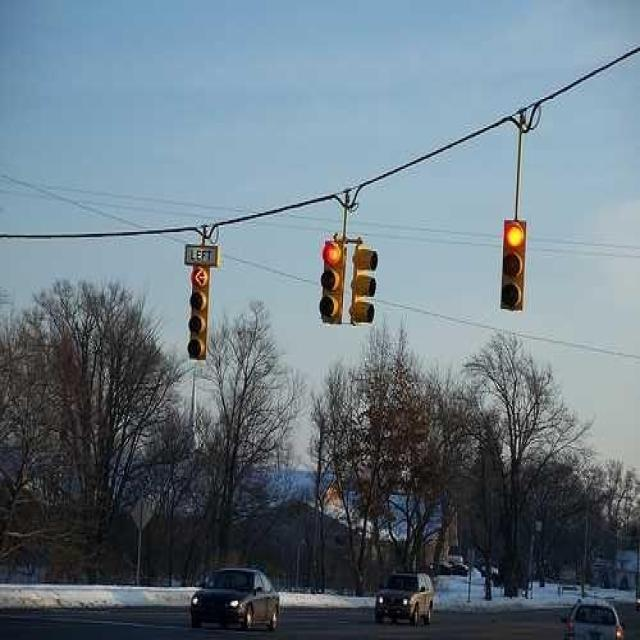Traffic Light -Red-: (181, 259, 215, 367), (316, 230, 348, 328), (499, 214, 529, 312)
